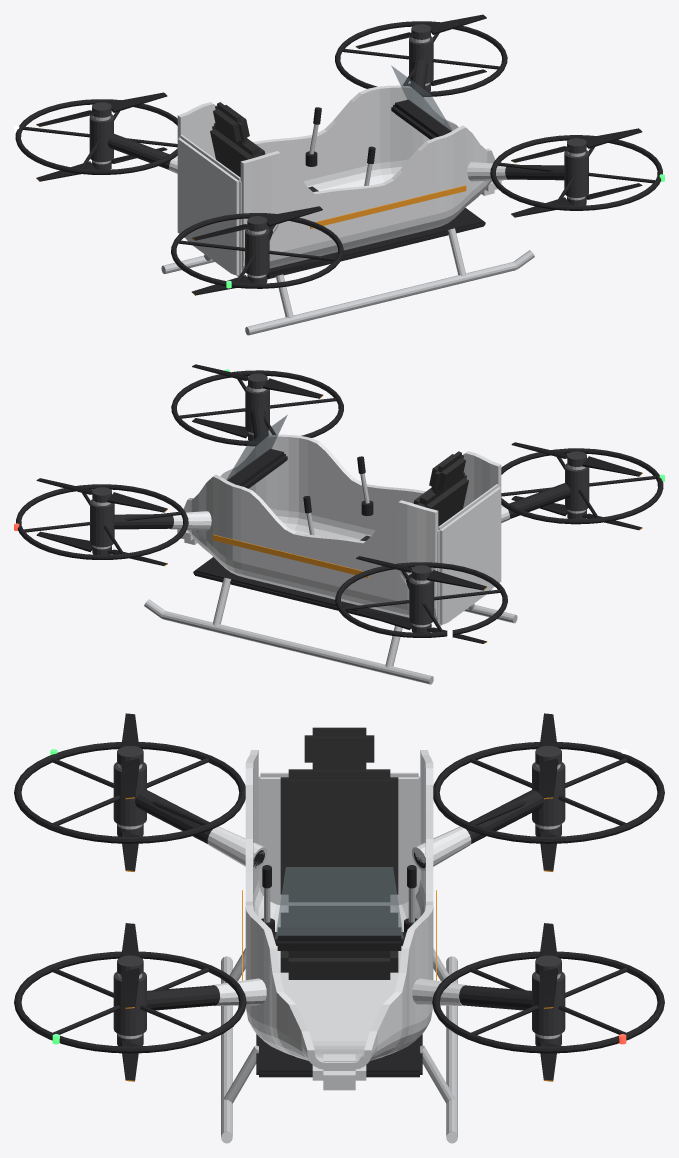
File: drone.glb
3 renders of one model, top to bottom at view 1: azimuth 30°, elevation 25°; view 2: azimuth 150°, elevation 25°; view 3: azimuth 270°, elevation 25°, orthographic. The views are drawn at different scales.
Visible parts, largest first — view 1: Frame, Rotor_RR_Top, Rotor_FL_Top, Rotor_RL_Top, Rotor_FR_Top, Rotor_FR_Bottom, Rotor_RR_Bottom, Rotor_RL_Bottom; view 2: Frame, Rotor_RL_Top, Rotor_FL_Top, Rotor_RR_Top, Rotor_FR_Top, Rotor_FL_Bottom, Rotor_RL_Bottom, Rotor_RR_Bottom, Rotor_FR_Bottom; view 3: Frame, Rotor_FR_Top, Rotor_RL_Top, Rotor_RR_Top, Rotor_FL_Top, Rotor_FL_Bottom, Rotor_FR_Bottom, Rotor_RL_Bottom, Rotor_RR_Bottom.
Boxes of the visible parts, x1,y1,x2,y2 form: Frame: (14, 20, 664, 335); Rotor_RR_Top: (191, 206, 322, 240); Rotor_FL_Top: (355, 14, 486, 48); Rotor_RL_Top: (36, 92, 167, 126); Rotor_FR_Top: (511, 128, 642, 162); Rotor_FR_Bottom: (511, 183, 642, 217); Rotor_RR_Bottom: (191, 261, 322, 295); Rotor_RL_Bottom: (36, 147, 167, 181); Frame: (14, 369, 664, 684); Rotor_RL_Top: (356, 556, 487, 590); Rotor_FL_Top: (36, 478, 167, 512); Rotor_RR_Top: (511, 442, 642, 476); Rotor_FR_Top: (192, 364, 323, 398); Rotor_FL_Bottom: (36, 531, 167, 566); Rotor_RL_Bottom: (356, 609, 487, 643); Rotor_RR_Bottom: (511, 496, 642, 530); Rotor_FR_Bottom: (192, 418, 254, 440); Frame: (14, 727, 664, 1143); Rotor_FR_Top: (117, 923, 143, 1008); Rotor_RL_Top: (535, 713, 561, 799); Rotor_RR_Top: (117, 713, 143, 799); Rotor_FL_Top: (535, 923, 561, 1008); Rotor_FL_Bottom: (535, 1033, 561, 1081); Rotor_FR_Bottom: (117, 1033, 143, 1081); Rotor_RL_Bottom: (535, 824, 561, 871); Rotor_RR_Bottom: (117, 824, 143, 871).
Size of the model in its own units: 2.72 by 1.05 by 2.43.
